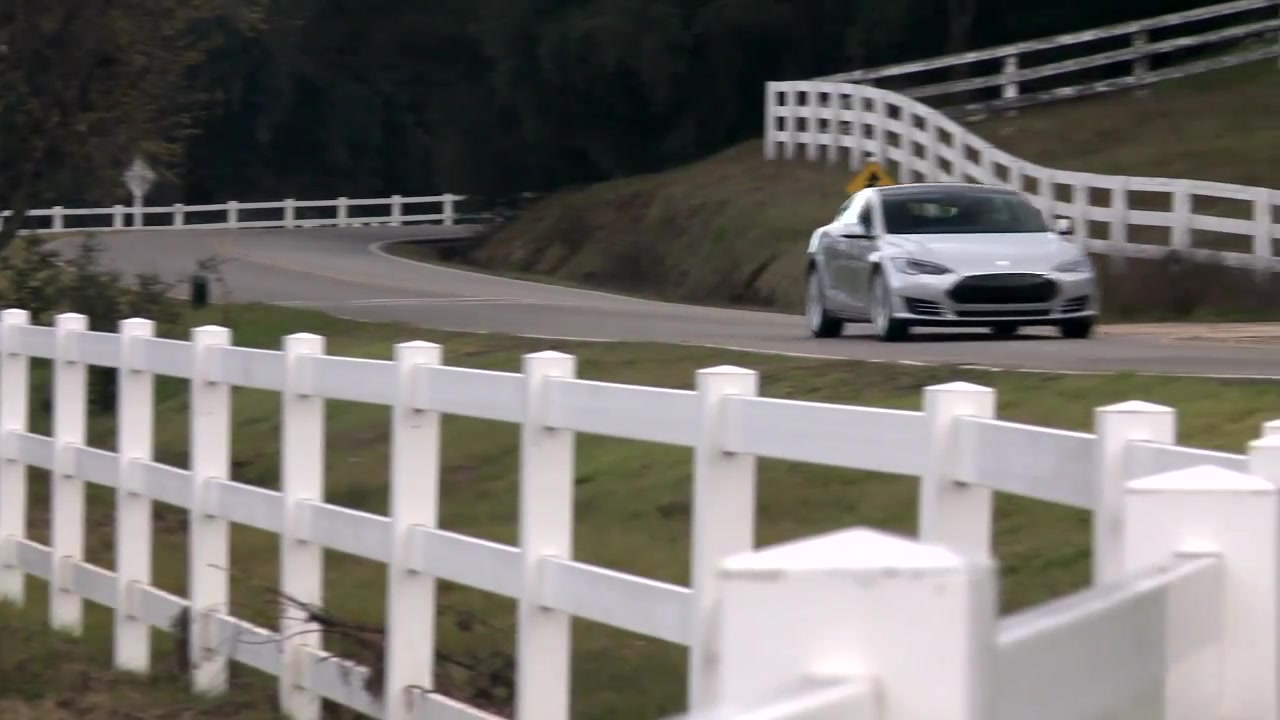car: (795, 182, 1105, 345)
